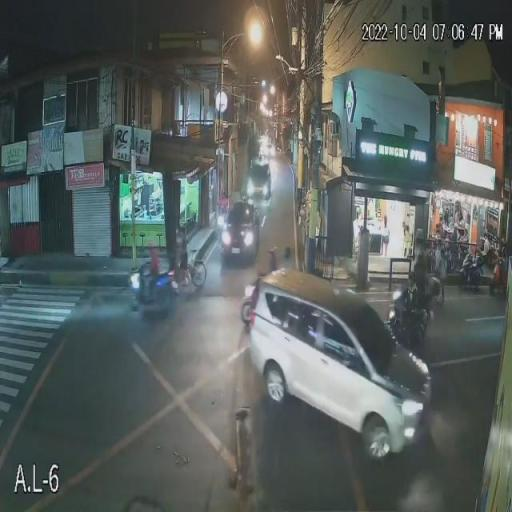helmet: (265, 247, 280, 264), (413, 250, 425, 264), (283, 248, 295, 258)
motorcycle: (385, 278, 433, 356), (128, 260, 179, 318), (238, 279, 261, 334), (483, 254, 509, 296), (459, 250, 484, 293)
rider: (408, 238, 435, 314), (145, 243, 168, 293), (464, 239, 485, 275)
